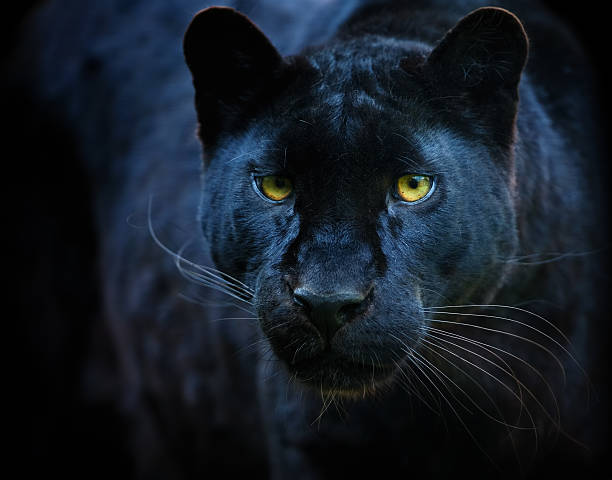panther: (158, 4, 547, 423)
